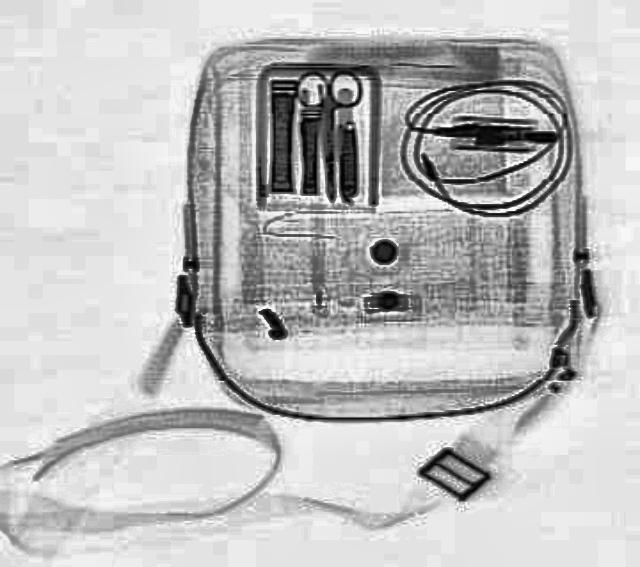Scissors: (290, 68, 364, 200)
